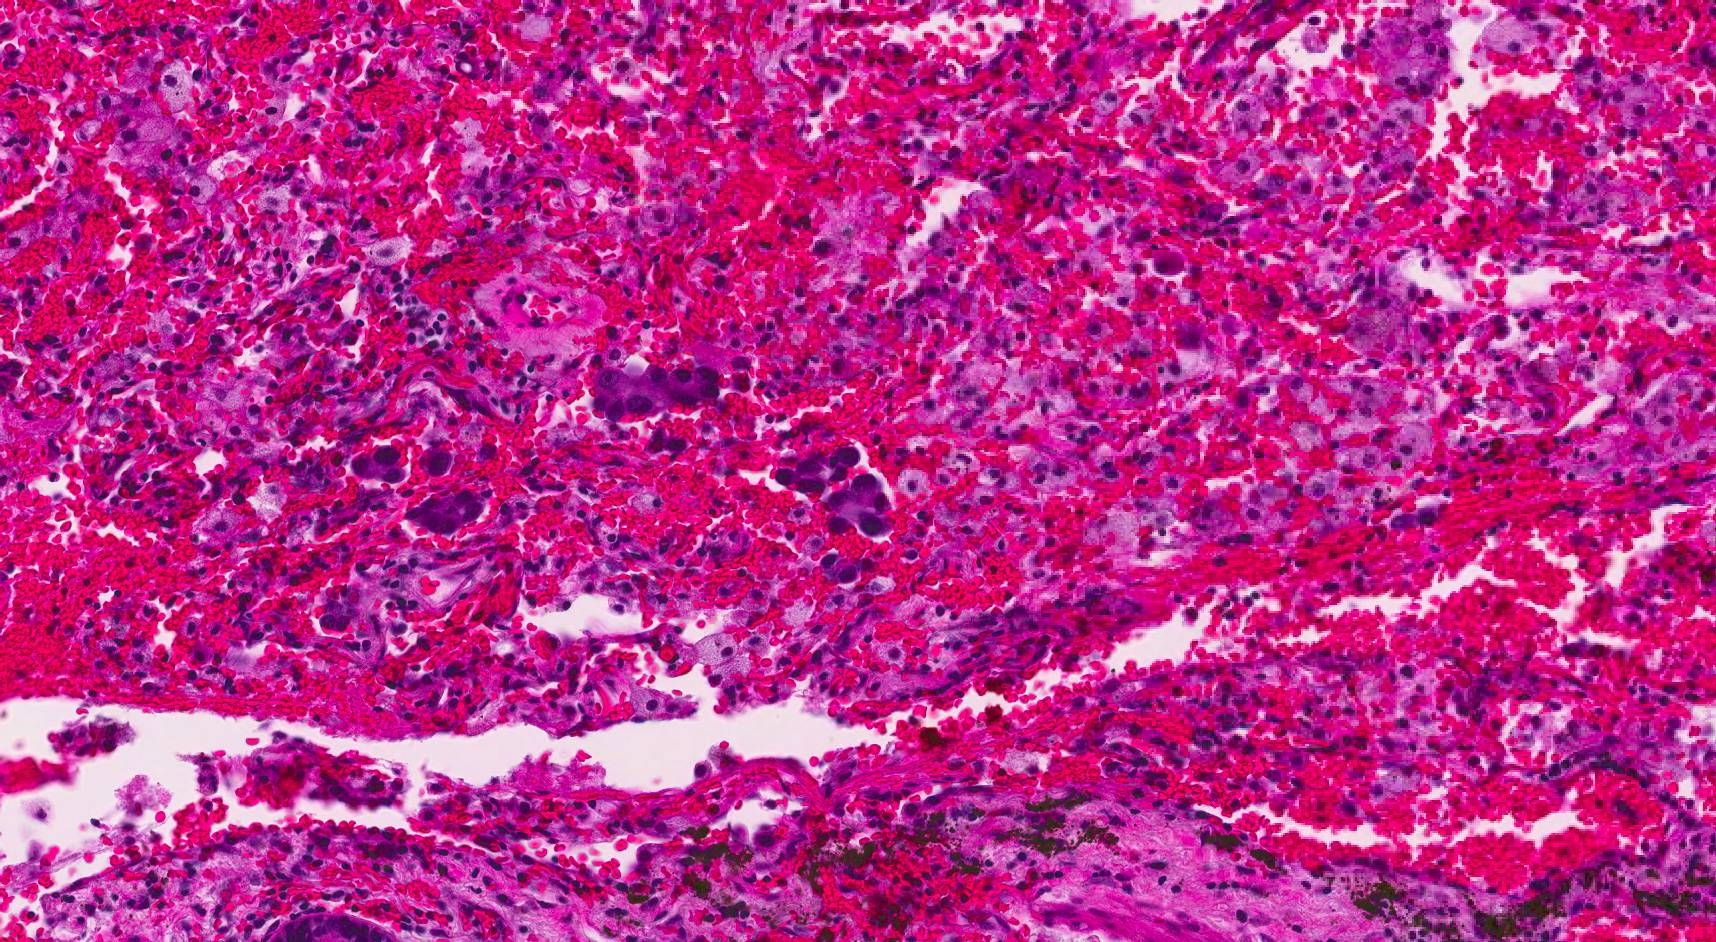stas: (768, 447, 898, 539), (593, 361, 722, 425), (406, 488, 487, 536), (351, 443, 410, 491), (814, 552, 864, 583), (417, 447, 454, 480)
